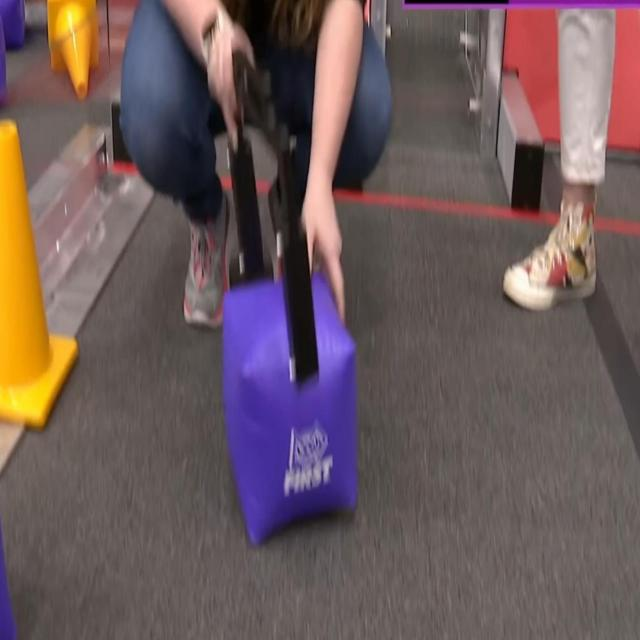frc_cone: (0, 103, 79, 429), (48, 0, 106, 96)
frc_cube: (221, 271, 360, 543), (0, 516, 24, 640), (0, 0, 29, 46), (0, 25, 14, 103)
